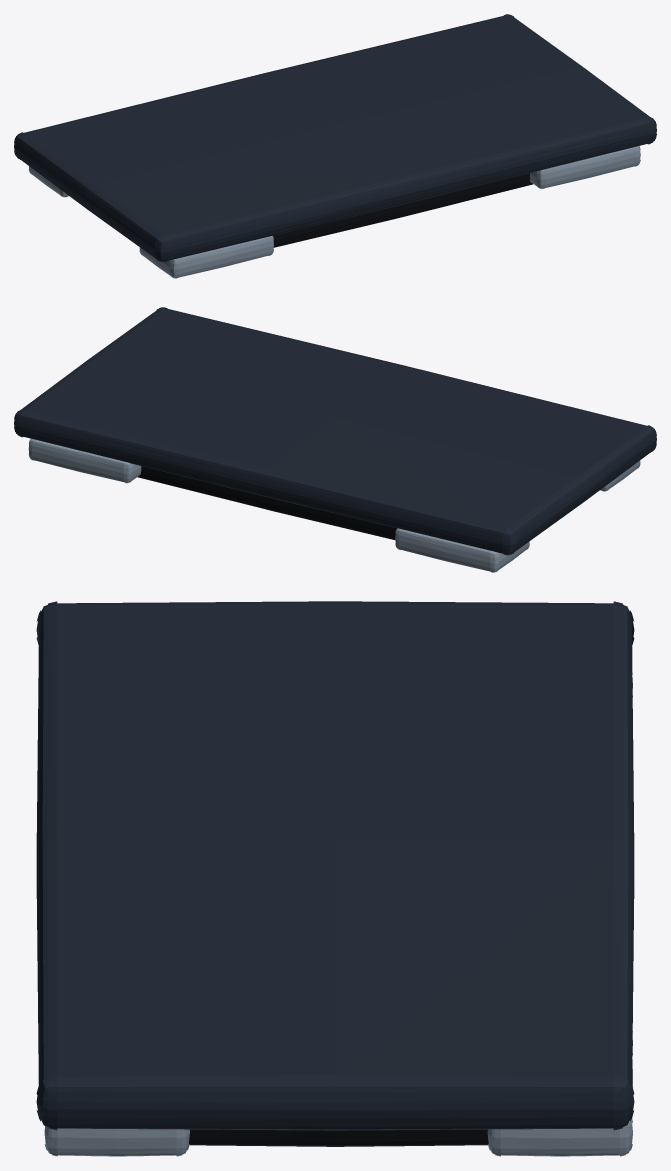
The model's file is 19_PS_Table_MainStructuralPedestal.fbx.
The picture shows the model from 3 angles, top to bottom: view 1: azimuth 30°, elevation 25°; view 2: azimuth 150°, elevation 25°; view 3: azimuth 270°, elevation 25°; orthographic projection. The views are drawn at different scales.
Visible parts, largest first — view 1: PS_Table_MainStructuralPedestal; view 2: PS_Table_MainStructuralPedestal; view 3: PS_Table_MainStructuralPedestal.
Boxes of the visible parts, bbox=[...] form: PS_Table_MainStructuralPedestal: bbox=[14, 14, 656, 278]; PS_Table_MainStructuralPedestal: bbox=[14, 307, 656, 572]; PS_Table_MainStructuralPedestal: bbox=[36, 601, 634, 1156].
Size of the model in its own units: 875 by 87 by 452.
